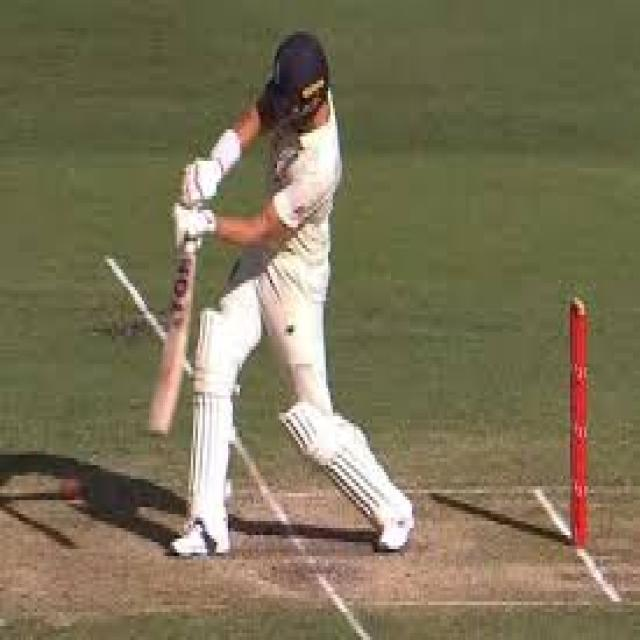bat: (129, 240, 191, 448)
toe: (141, 428, 178, 442)
